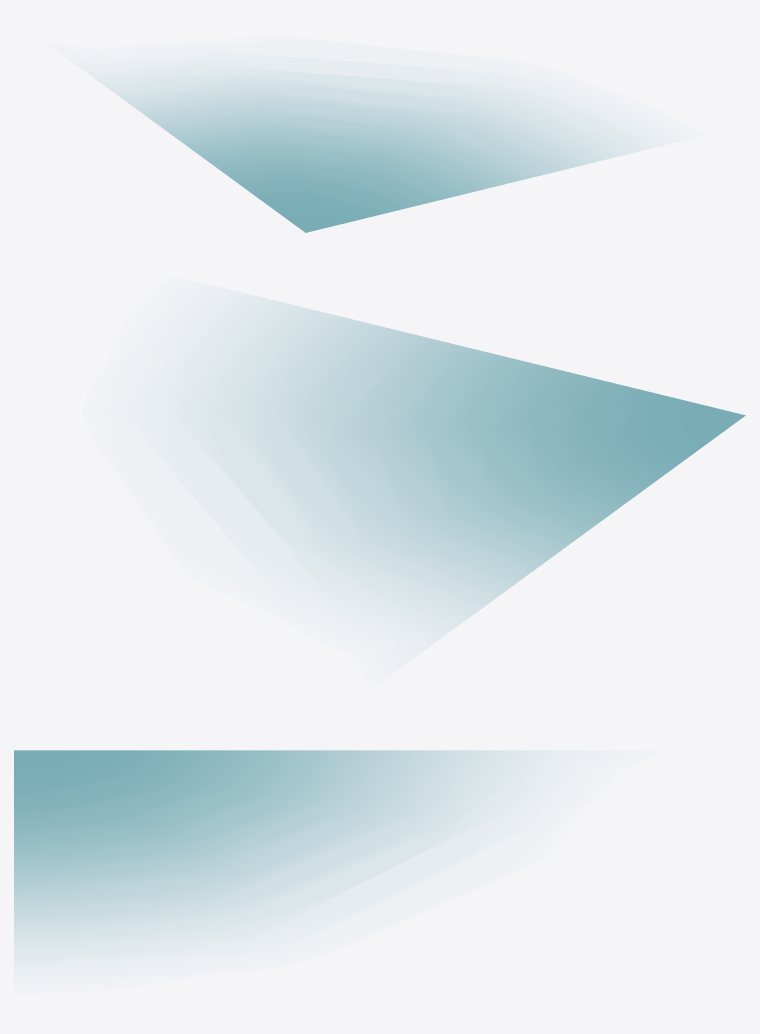
3 renders of one model, top to bottom at view 1: azimuth 30°, elevation 25°; view 2: azimuth 150°, elevation 25°; view 3: azimuth 270°, elevation 25°, orthographic. The views are drawn at different scales.
Visible parts, largest first — view 1: city; view 2: city; view 3: city.
Boxes of the visible parts, box(x1,y1,x2,y2) form: city: box(97, 67, 642, 232); city: box(184, 297, 745, 635); city: box(14, 750, 538, 956).
Size of the model in its own units: 426 by 0 by 489.
